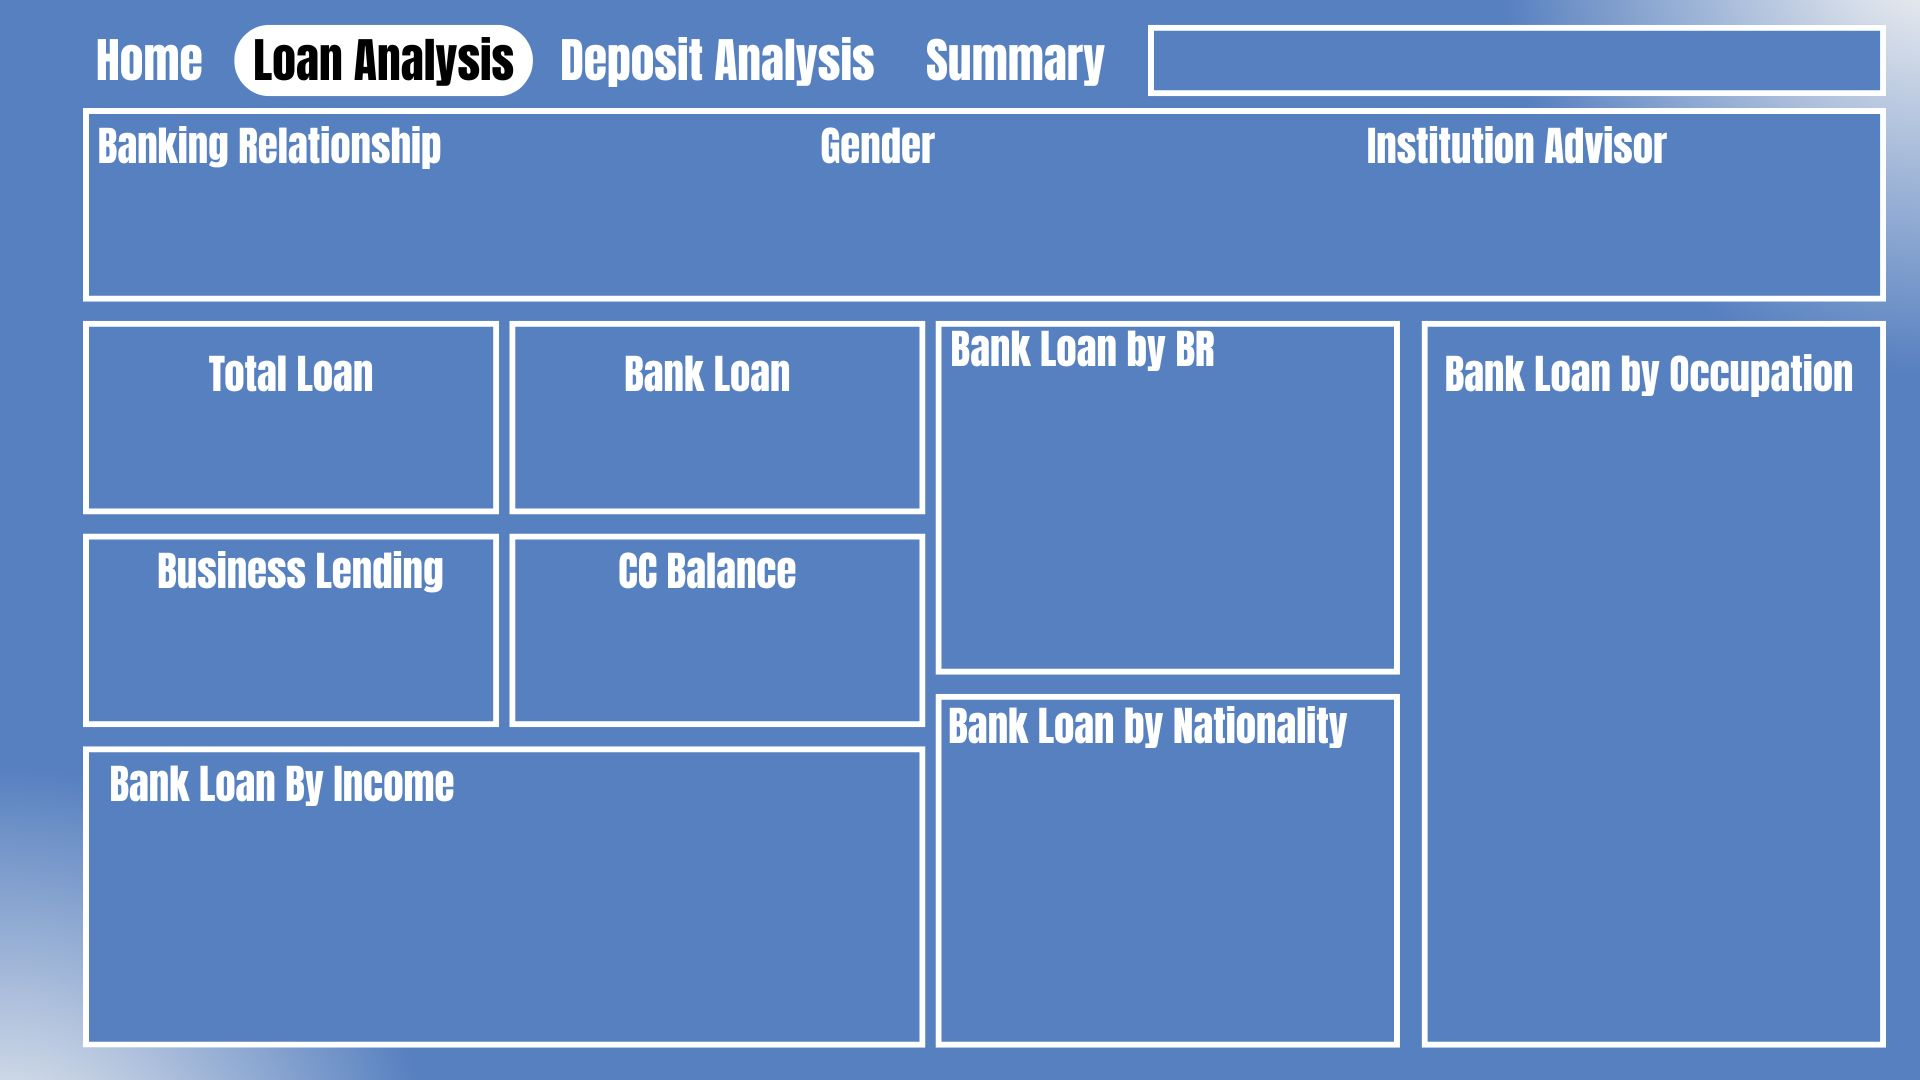

The page's visual inventory and layout, read from the dashboard file:
{"tool":"powerbi","page":{"name":"Loan Analysis","canvas":[1280,720],"ordinal":1},"visuals":[{"type":"actionButton","box":[47.5,19.9,99.5,39.8],"z":0},{"type":"actionButton","box":[359.8,19.9,234.3,39.8],"z":1000},{"type":"actionButton","box":[594.1,19.9,147,39.8],"z":2000},{"type":"cardVisual","fields":{"Data":["banking_case customer.Total_loan"]},"box":[98,238.9,243.4,102.6],"z":3000},{"type":"cardVisual","fields":{"Data":["Sum(banking_case customer.Bank Loans)"]},"box":[376.7,238.9,202.1,102.6],"z":4000},{"type":"cardVisual","fields":{"Data":["Sum(banking_case customer.Business Lending)"]},"box":[98,372.1,197.5,102.6],"z":5000},{"type":"cardVisual","fields":{"Data":["Sum(banking_case customer.Credit Card Balance)"]},"box":[376.7,373.6,202.1,102.6],"z":6000},{"type":"slicer","fields":{"Values":["banking_case customer.Year of joining"]},"box":[754.8,15.3,514.4,49],"z":7000},{"type":"donutChart","fields":{"Category":["banking_case customer.Income Band"],"Y":["Sum(banking_case customer.Bank Loans)"]},"box":[99.5,499.1,568,206.7],"z":8000},{"type":"clusteredColumnChart","fields":{"Category":["banking_case customer.BRId"],"Y":["Sum(banking_case customer.Bank Loans)"]},"box":[623.2,238.9,309.3,226.6],"z":9000},{"type":"slicer","fields":{"Values":["banking_case customer.BRId"]},"box":[36.7,113.3,500.7,78.1],"z":10000},{"type":"slicer","fields":{"Values":["banking_case customer.GenderId"]},"box":[512.9,113.3,375.1,78.1],"z":11000},{"type":"slicer","fields":{"Values":["banking_case customer.IAId"]},"box":[886.5,113.3,358.3,78.1],"z":12000},{"type":"clusteredBarChart","fields":{"Category":["banking_case customer.Occupation"],"Y":["Sum(banking_case customer.Bank Loans)"]},"box":[944.7,257.2,312.3,448.6],"z":13000},{"type":"treemap","fields":{"Group":["banking_case customer.Nationality"],"Values":["Sum(banking_case customer.Bank Loans)"]},"box":[623.2,499.1,309.3,196],"z":14000}]}

Visuals, with their boxes in screenshot pixels (x1, y1, x2, y2), scaled from the page's 1280x720 canvas onto the 1920x1080 screenshot:
actionButton: crop(71, 30, 220, 90)
actionButton: crop(540, 30, 891, 90)
actionButton: crop(891, 30, 1112, 90)
cardVisual - banking_case customer.Total_loan: crop(147, 358, 512, 512)
cardVisual - Sum(banking_case customer.Bank Loans): crop(565, 358, 868, 512)
cardVisual - Sum(banking_case customer.Business Lending): crop(147, 558, 443, 712)
cardVisual - Sum(banking_case customer.Credit Card Balance): crop(565, 560, 868, 714)
slicer - banking_case customer.Year of joining: crop(1132, 23, 1904, 96)
donutChart - banking_case customer.Income Band x Sum(banking_case customer.Bank Loans): crop(149, 749, 1001, 1059)
clusteredColumnChart - banking_case customer.BRId x Sum(banking_case customer.Bank Loans): crop(935, 358, 1399, 698)
slicer - banking_case customer.BRId: crop(55, 170, 806, 287)
slicer - banking_case customer.GenderId: crop(769, 170, 1332, 287)
slicer - banking_case customer.IAId: crop(1330, 170, 1867, 287)
clusteredBarChart - banking_case customer.Occupation x Sum(banking_case customer.Bank Loans): crop(1417, 386, 1886, 1059)
treemap - banking_case customer.Nationality x Sum(banking_case customer.Bank Loans): crop(935, 749, 1399, 1043)
